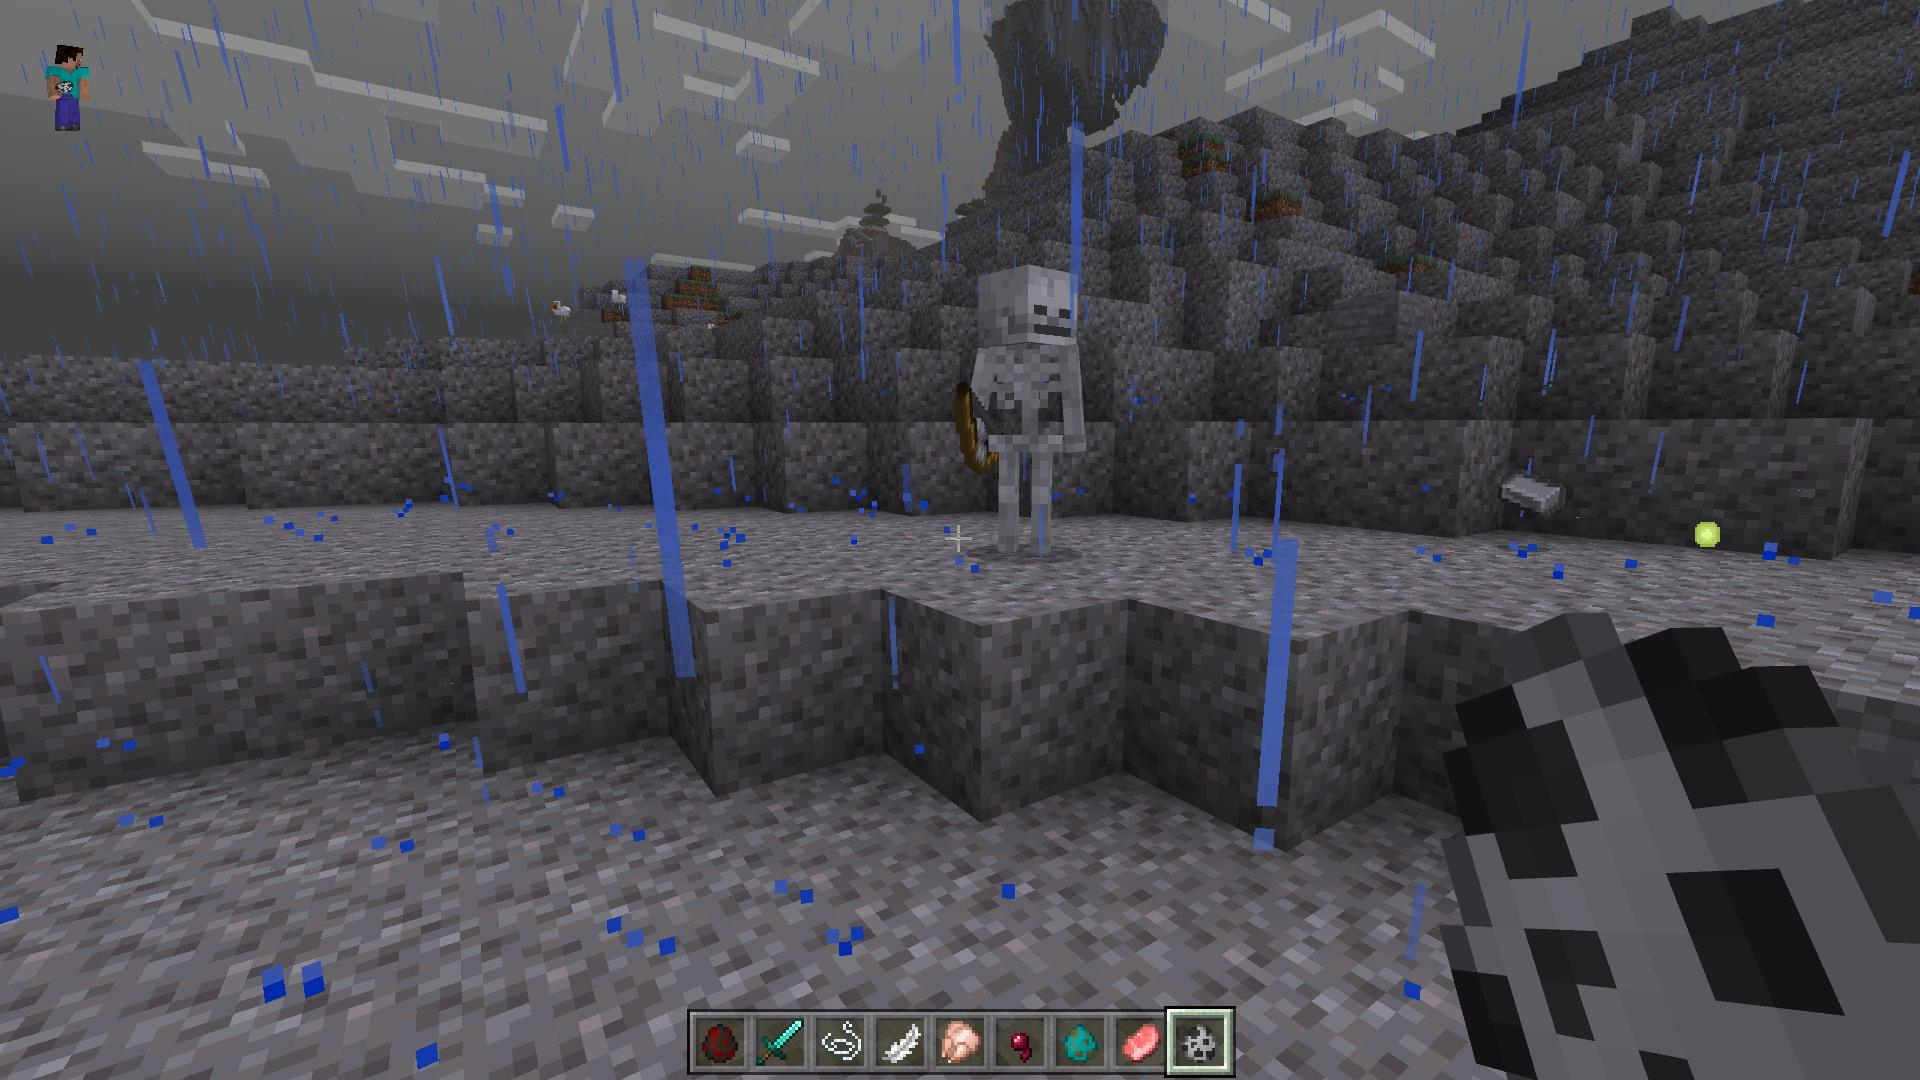skeleton: (959, 261, 1092, 558)
